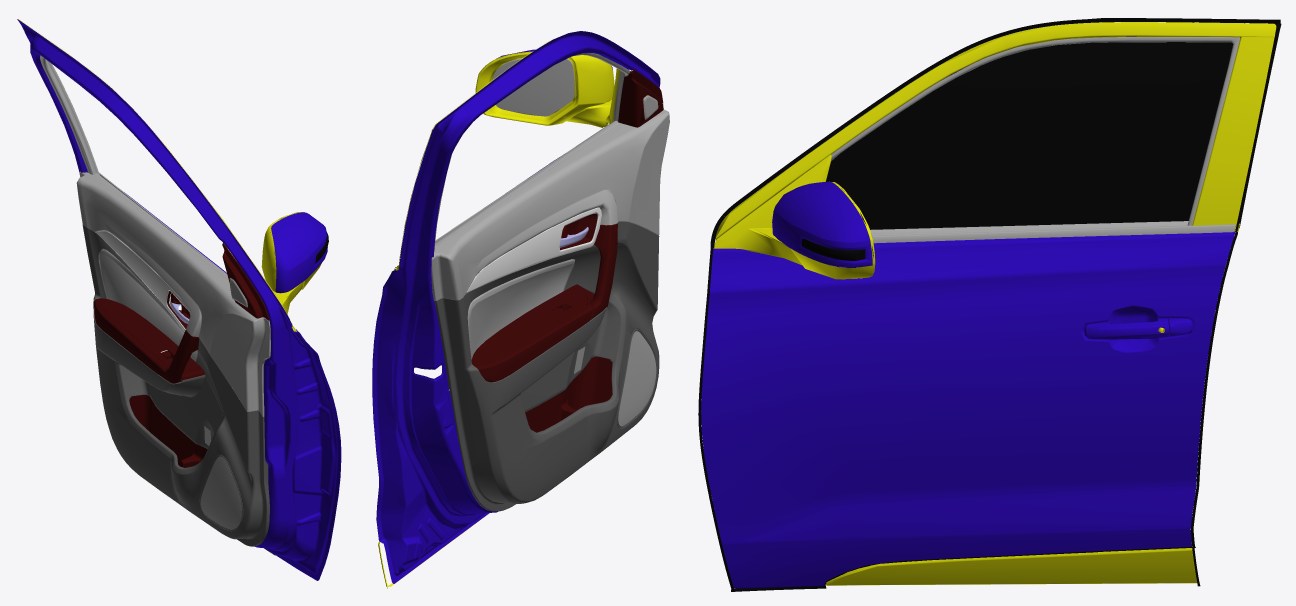
Rendered from TOYOTA_URBAN_CRUISER_HIG_EX_FL_DOORS_MESH.glb.
3 renders of one model, left to right at view 1: azimuth 30°, elevation 25°; view 2: azimuth 150°, elevation 25°; view 3: azimuth 270°, elevation 25°, orthographic. The views are drawn at different scales.
Visible parts, largest first — view 1: TOYOTA_URBAN_CRUISER_HIG_EX_FL_DOORS_MESH; view 2: TOYOTA_URBAN_CRUISER_HIG_EX_FL_DOORS_MESH; view 3: TOYOTA_URBAN_CRUISER_HIG_EX_FL_DOORS_MESH.
Boxes of the visible parts, bbox=[...] form: TOYOTA_URBAN_CRUISER_HIG_EX_FL_DOORS_MESH: bbox=[17, 19, 341, 580]; TOYOTA_URBAN_CRUISER_HIG_EX_FL_DOORS_MESH: bbox=[372, 31, 669, 588]; TOYOTA_URBAN_CRUISER_HIG_EX_FL_DOORS_MESH: bbox=[698, 18, 1281, 591].
Bounding box in the file's own units: 0.4331 × 1.18 × 1.19.
Materials: 16 (1 with a texture image).
